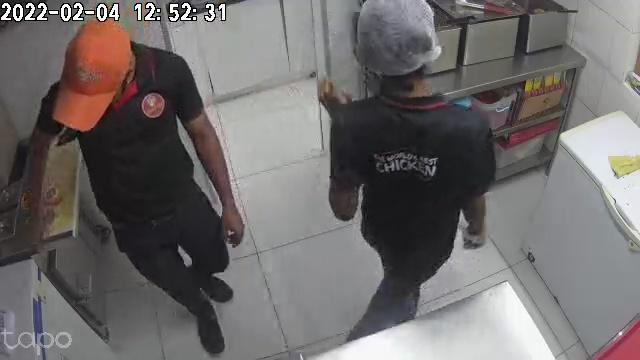no_gloves: (217, 195, 244, 247)
